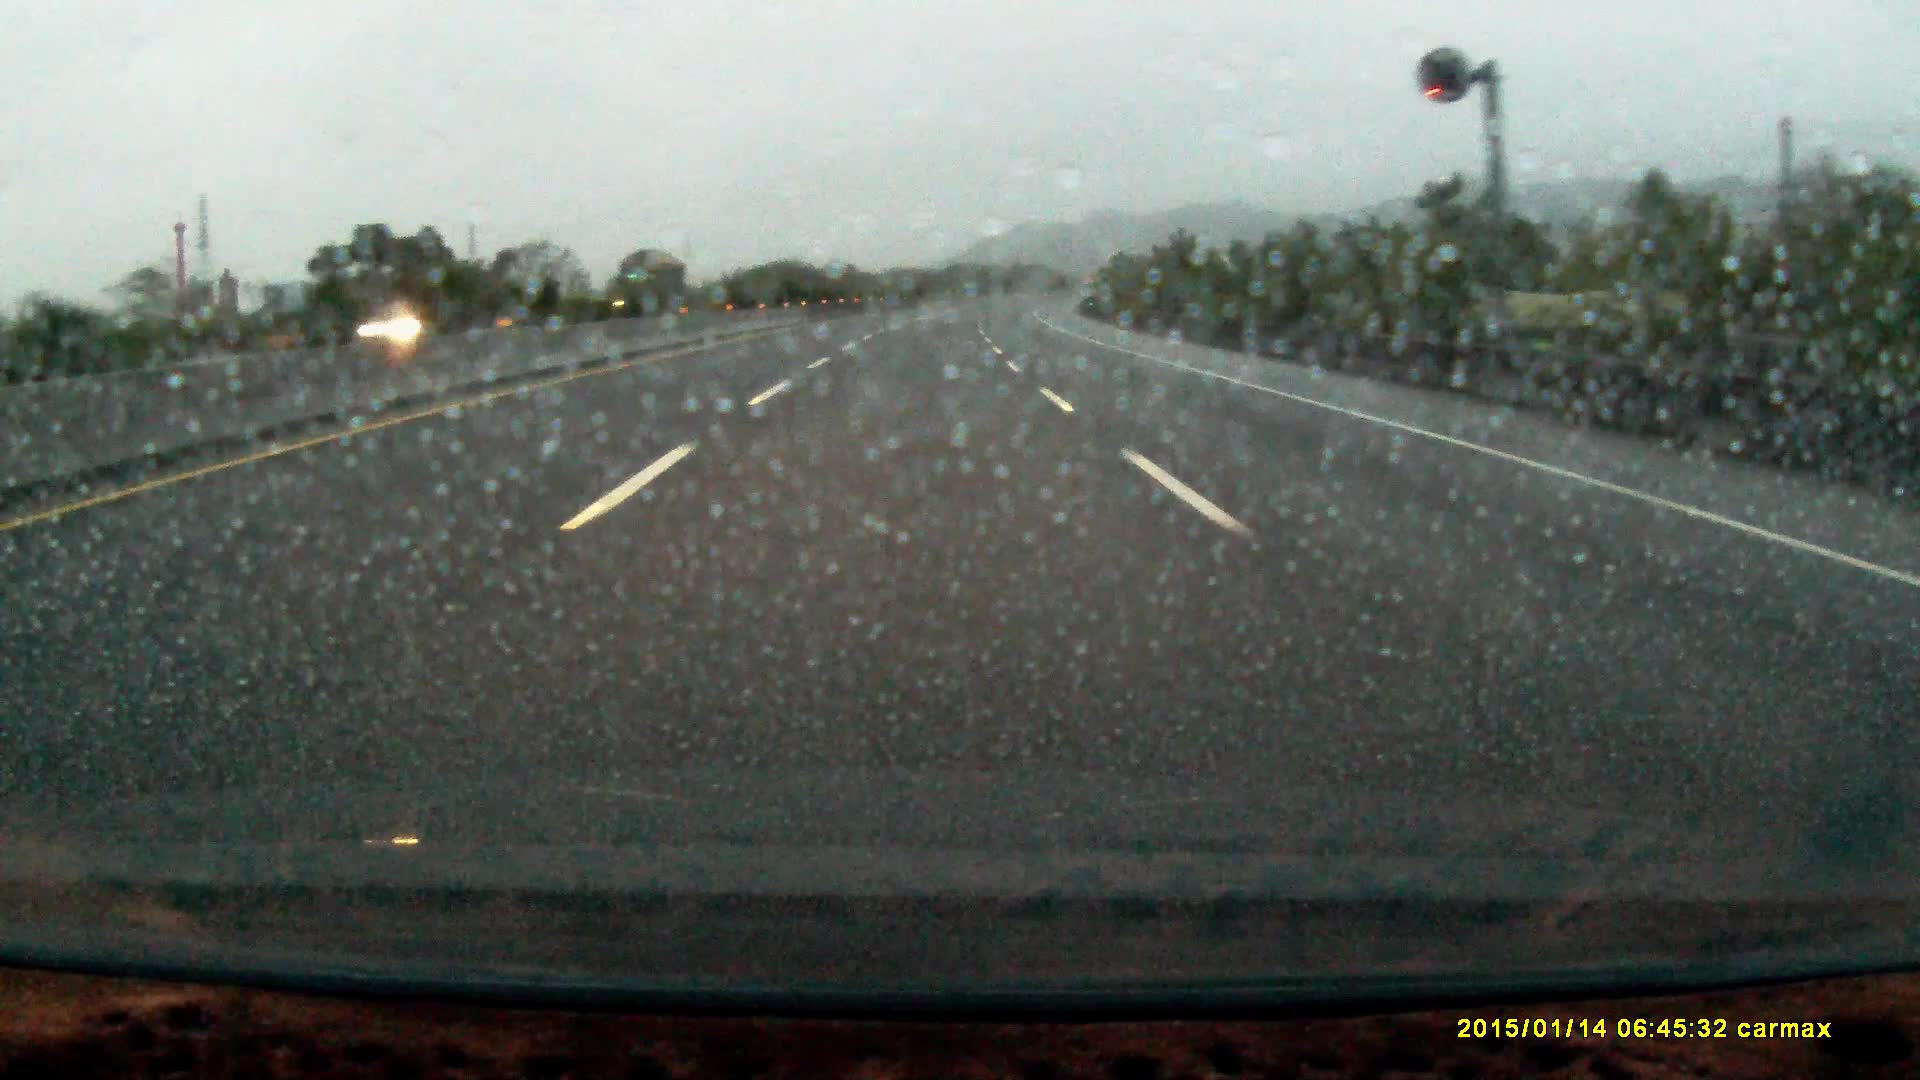vehicle: (607, 253, 690, 320), (353, 301, 468, 342)
